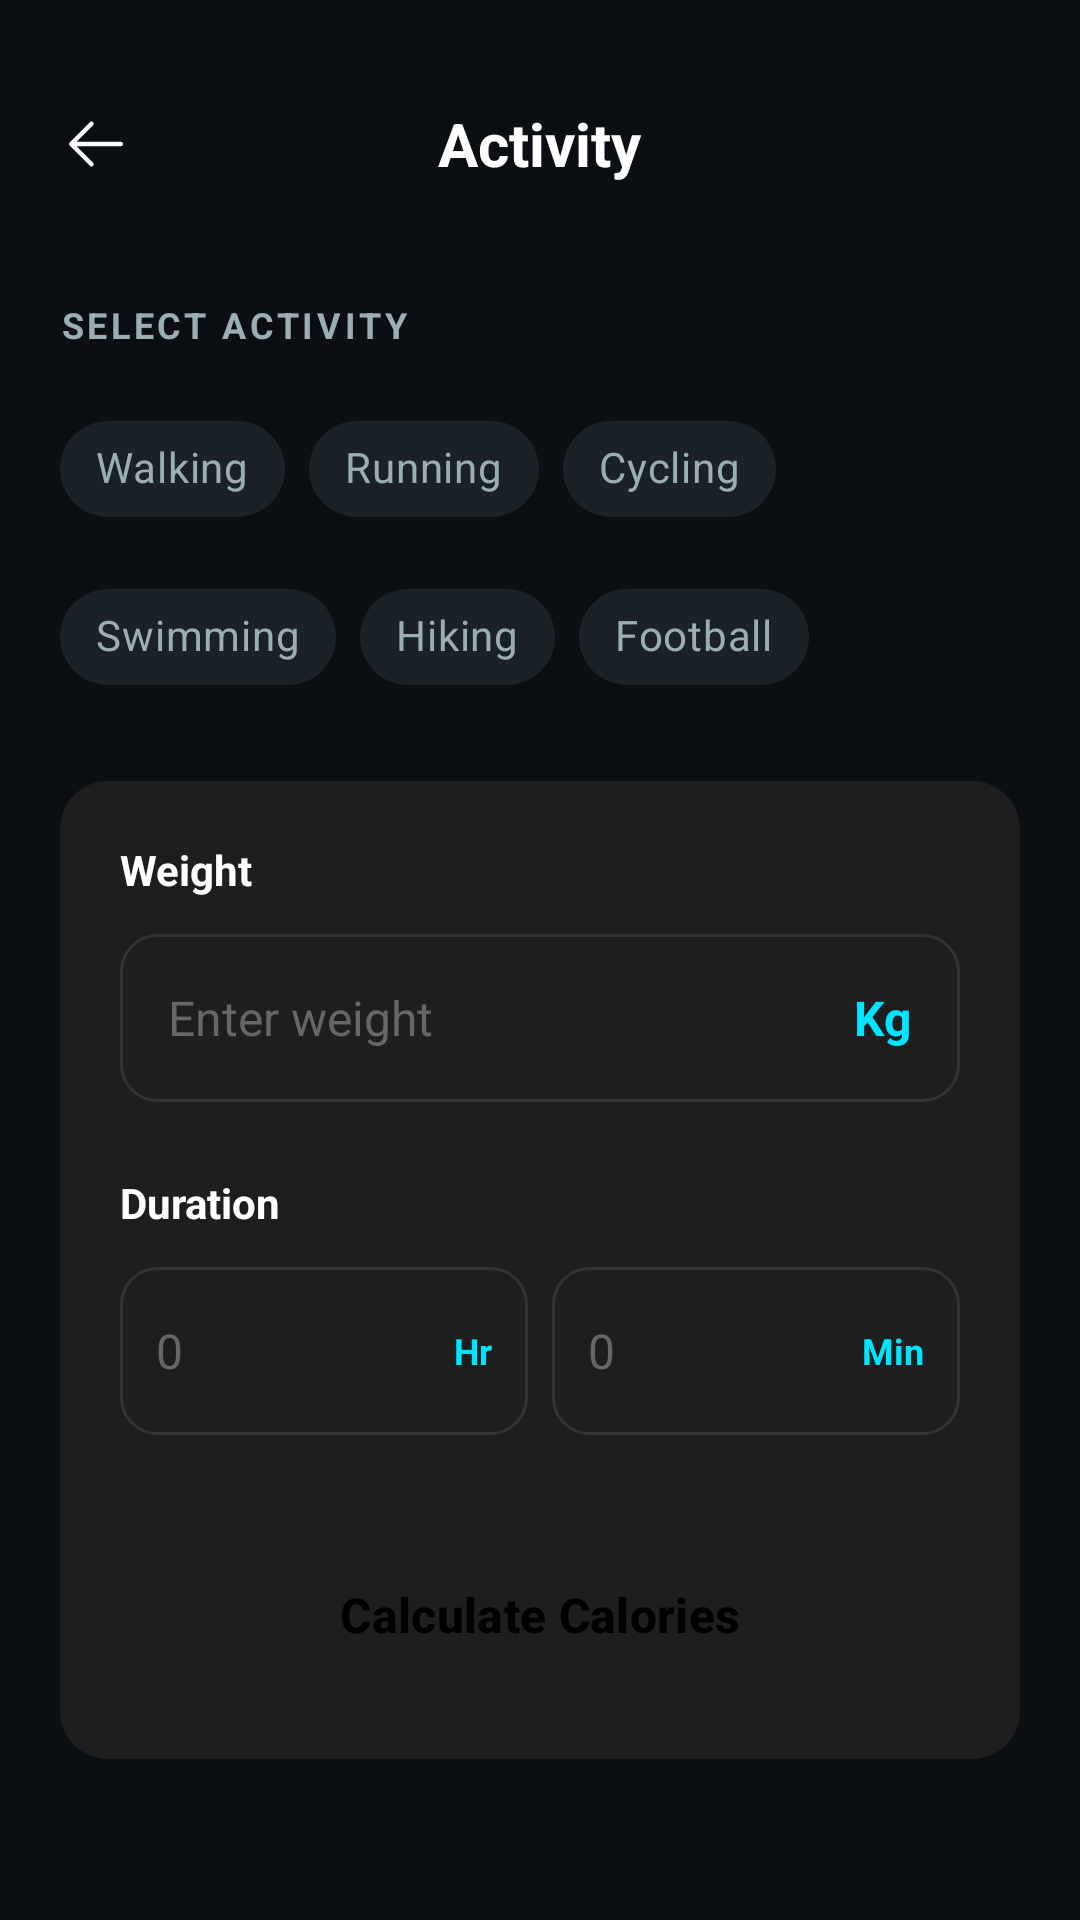

Screen size 1080 × 1920. Icon name, then its box in pixels as bbox=(x1, y1, x2, y2):
Back: bbox=(69, 121, 123, 167)
